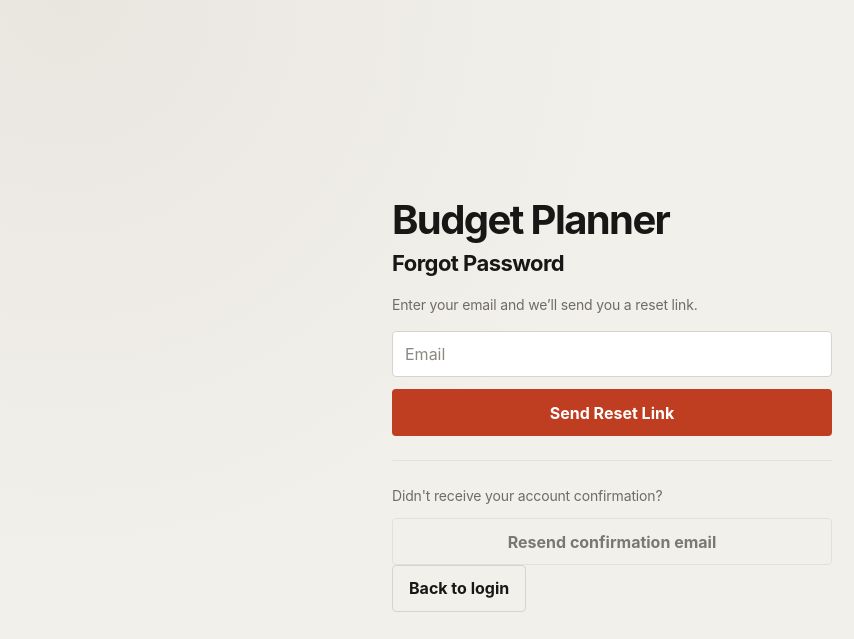
it: existing authentication flows › presents the forgot-password endpoint neutral response
The width and height of the screenshot is (854, 639).
In the field with placeholder "Email": (612, 354) left=392, top=331, right=832, bottom=378, type "unknown@example.com"
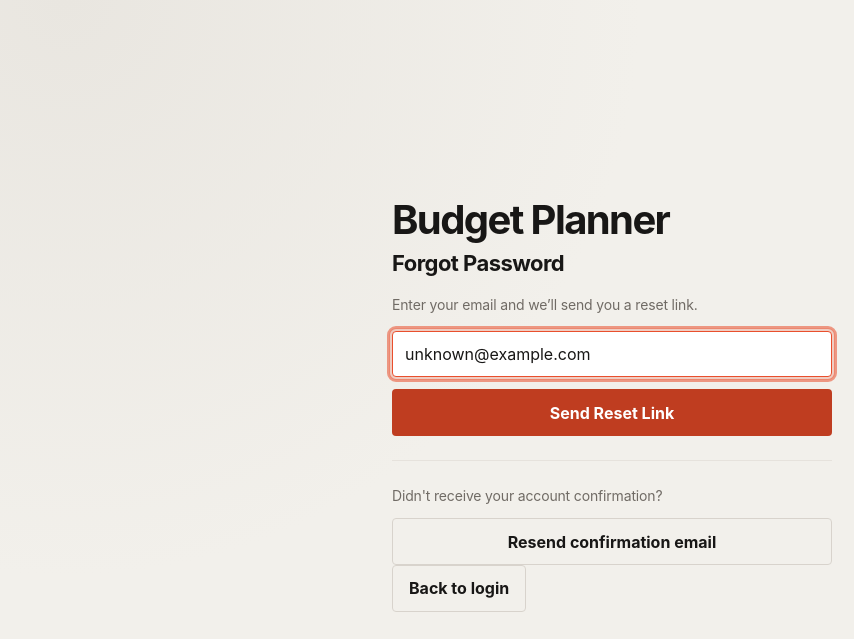
Click the button "Send Reset Link": (612, 413) left=392, top=390, right=832, bottom=436
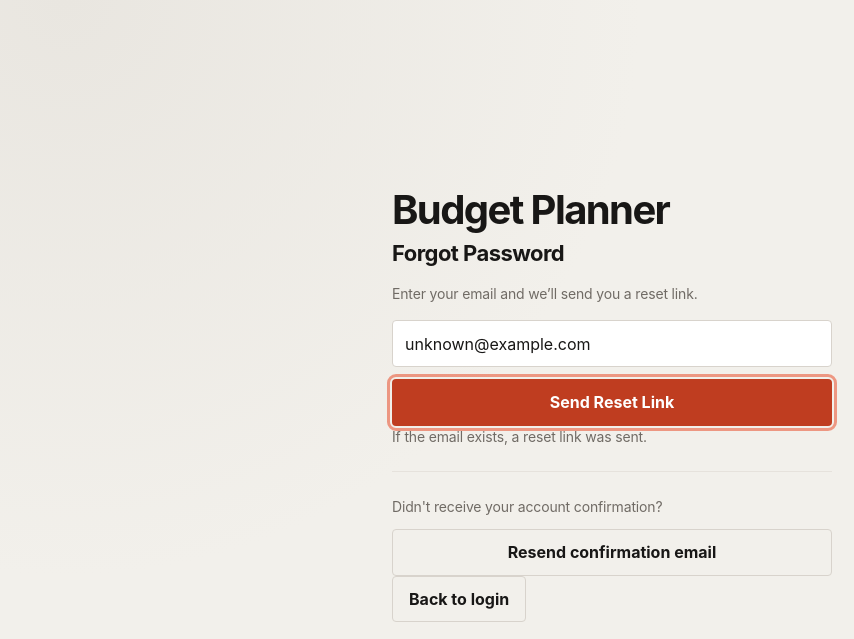
Expected: the text "If the email exists, a reset link was sent." is shown, left=392, top=428, right=647, bottom=445
